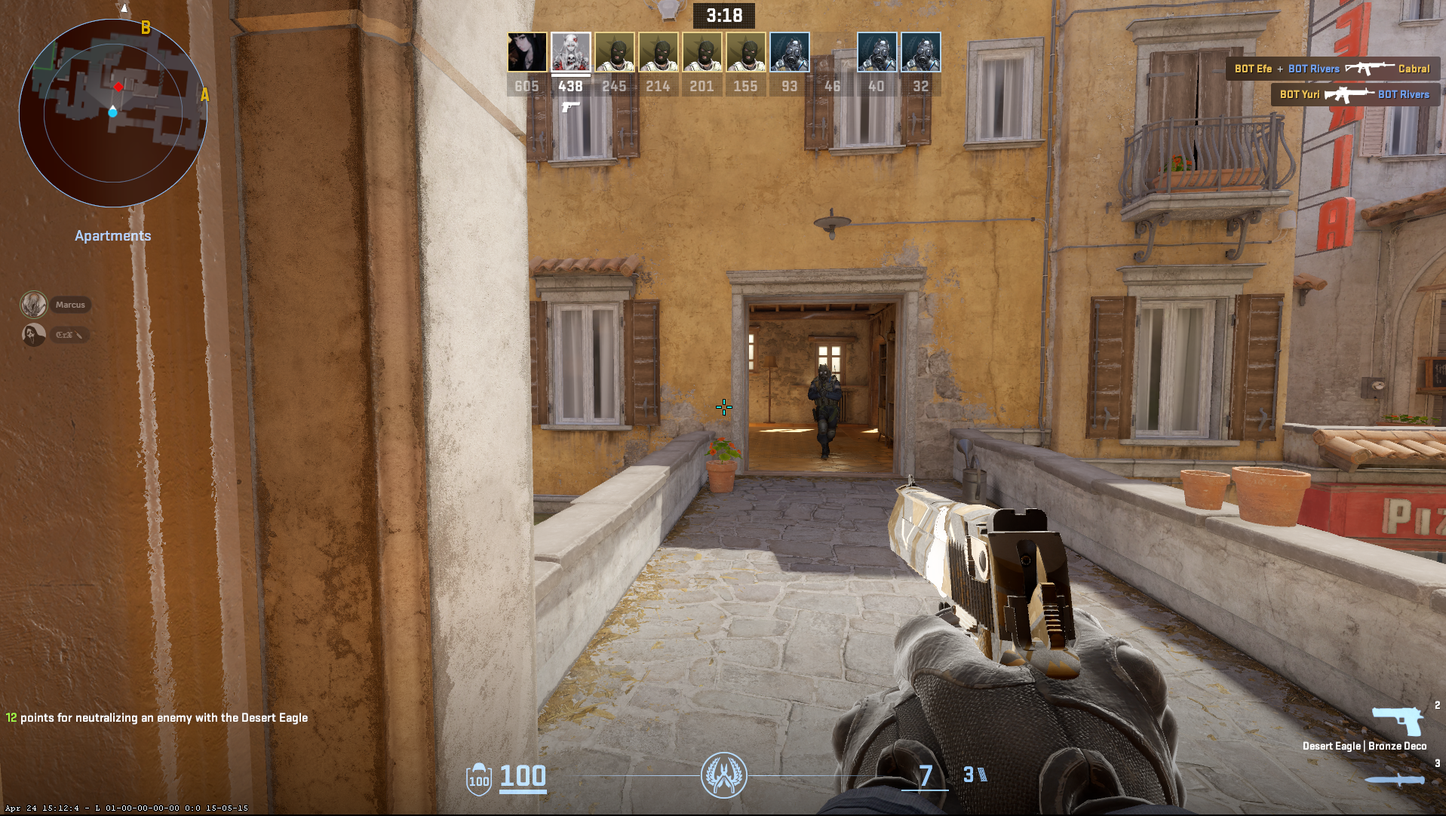CT: (808, 364, 842, 459)
